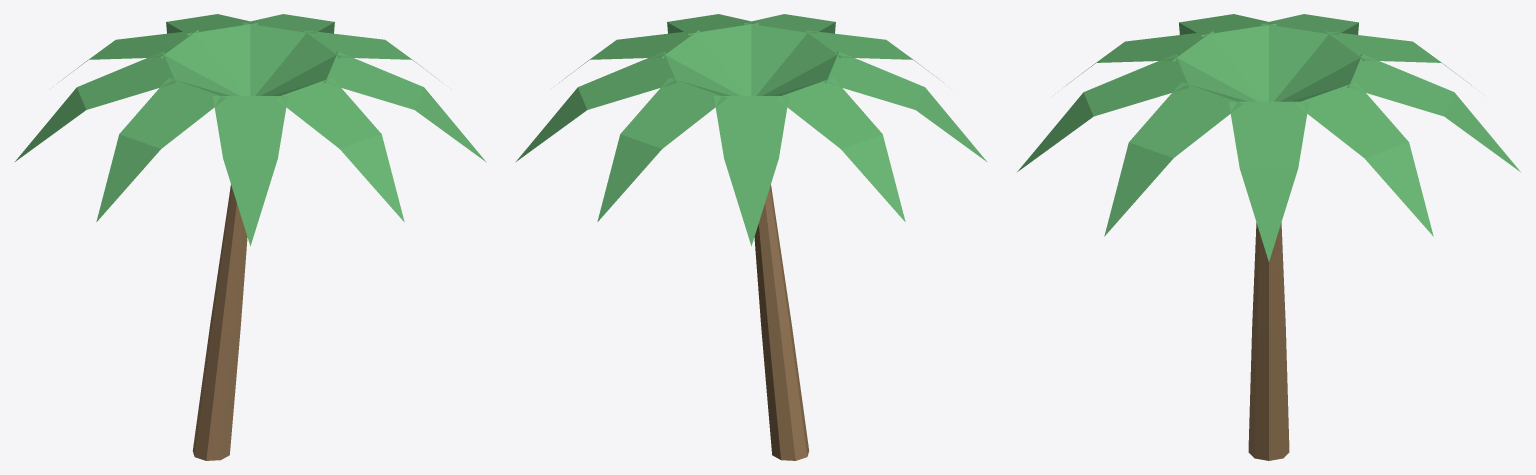
The model's file is sun_palm.glb.
3 renders of one model, left to right at view 1: azimuth 30°, elevation 25°; view 2: azimuth 150°, elevation 25°; view 3: azimuth 270°, elevation 25°, orthographic. The views are drawn at different scales.
Visible parts, largest first — view 1: sun_palm; view 2: sun_palm; view 3: sun_palm.
Boxes of the visible parts, bbox=[...] form: sun_palm: bbox=[15, 14, 485, 460]; sun_palm: bbox=[516, 14, 986, 460]; sun_palm: bbox=[1017, 14, 1520, 460].
Bounding box in the file's own units: 6.79 × 6.15 × 6.89.
